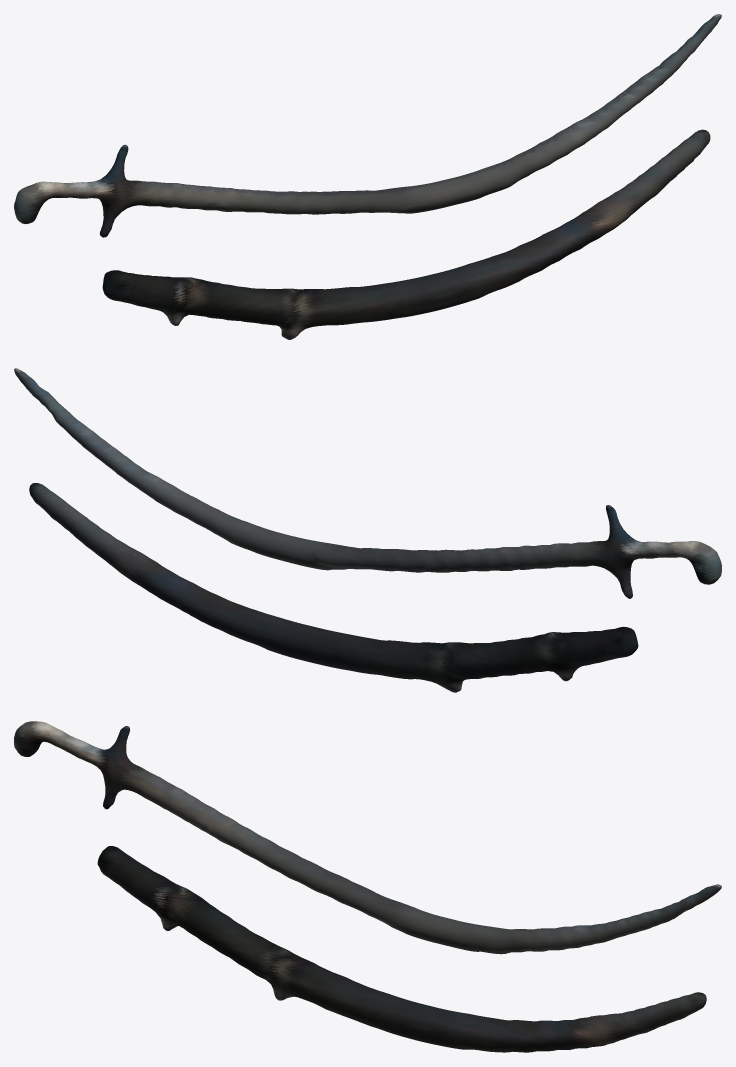
Rendered from kfl-2244.glb.
The picture shows the model from 3 angles, top to bottom: view 1: azimuth 30°, elevation 25°; view 2: azimuth 150°, elevation 25°; view 3: azimuth 330°, elevation 25°; orthographic projection.
Visible parts, largest first — view 1: geometry_0; view 2: geometry_0; view 3: geometry_0.
Part boxes in pixels (x1,y1,x2,y2): geometry_0: (14, 14, 721, 339); geometry_0: (14, 368, 721, 692); geometry_0: (14, 721, 721, 1052).
Size of the model in its own units: 0.989 by 0.3126 by 0.052.
1 material, 1 textured.
